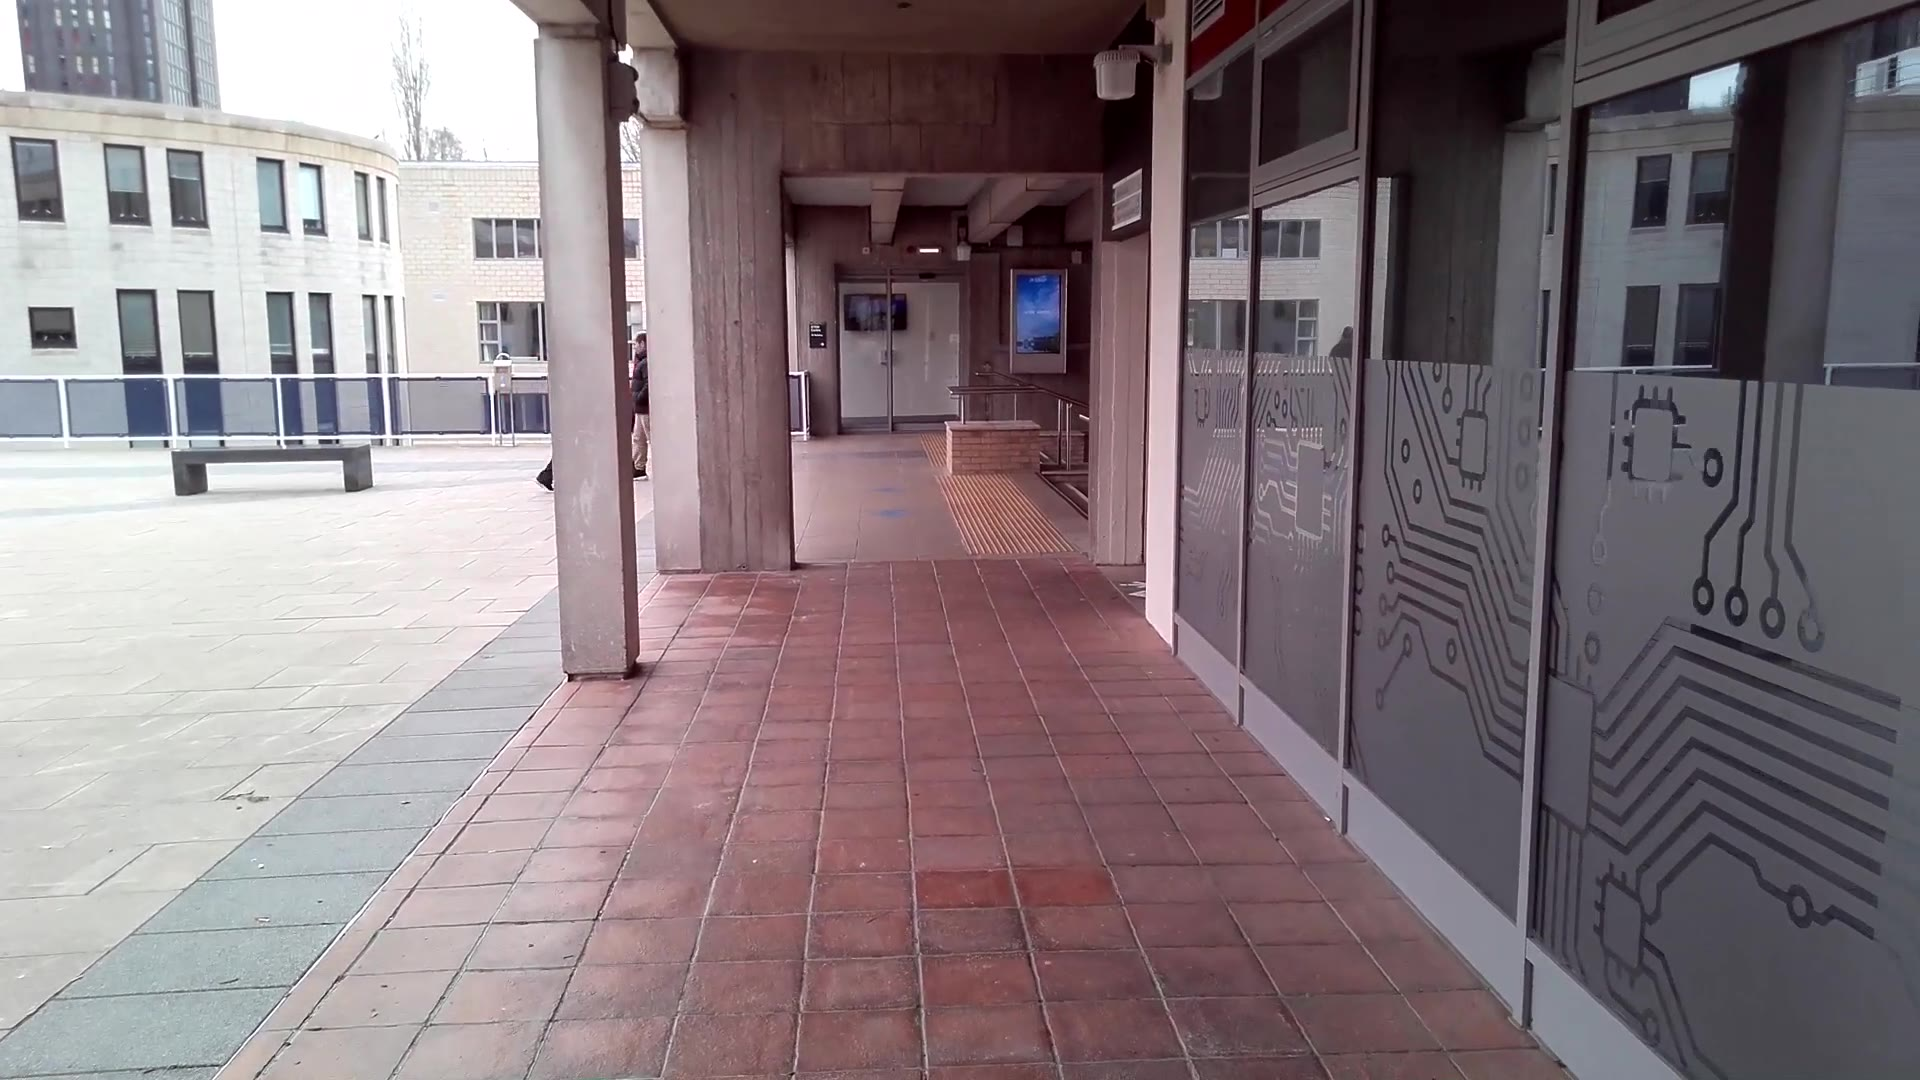Bench: (170, 446, 381, 509)
